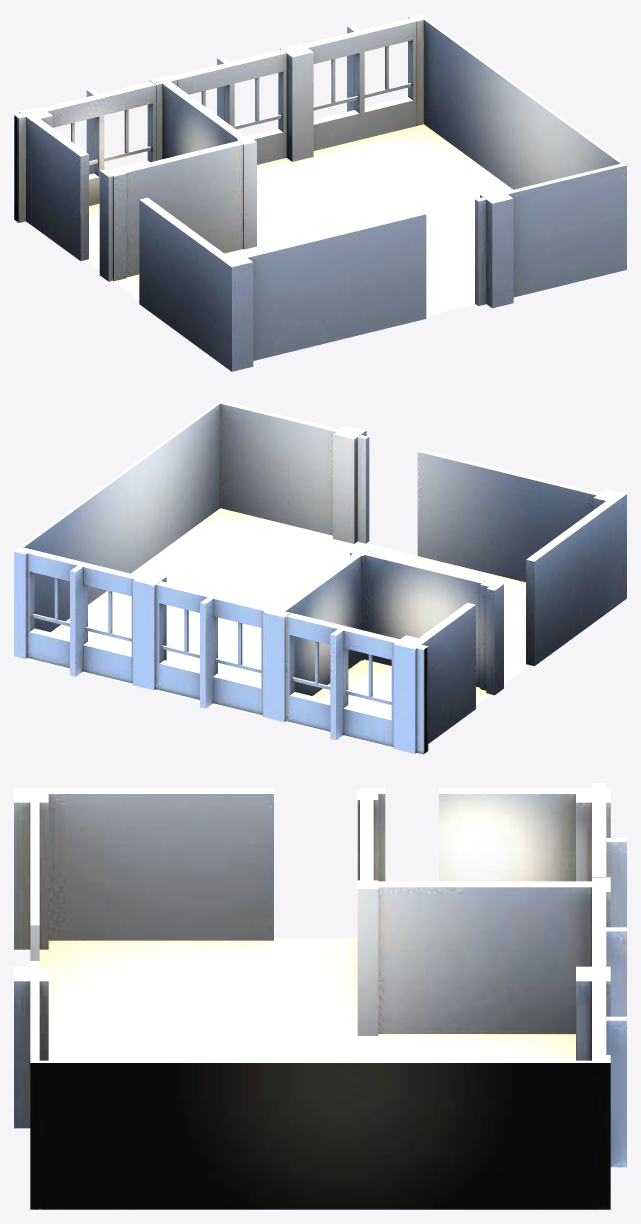
3 views of the same model, one above another, from view 1: azimuth 30°, elevation 25°; view 2: azimuth 150°, elevation 25°; view 3: azimuth 270°, elevation 25° (orthographic). The views are drawn at different scales.
Parts seen in each view (by area): view 1: hb_1floor_room03(1)_0; view 2: hb_1floor_room03(1)_0; view 3: hb_1floor_room03(1)_0.
Part boxes in pixels (left/top/right/bottom): hb_1floor_room03(1)_0: left=14, top=14, right=626, bottom=371; hb_1floor_room03(1)_0: left=14, top=400, right=626, bottom=754; hb_1floor_room03(1)_0: left=14, top=783, right=626, bottom=1209.
Size of the model in its own units: 1.43 by 0.3508 by 1.33.
1 material, 1 textured.
